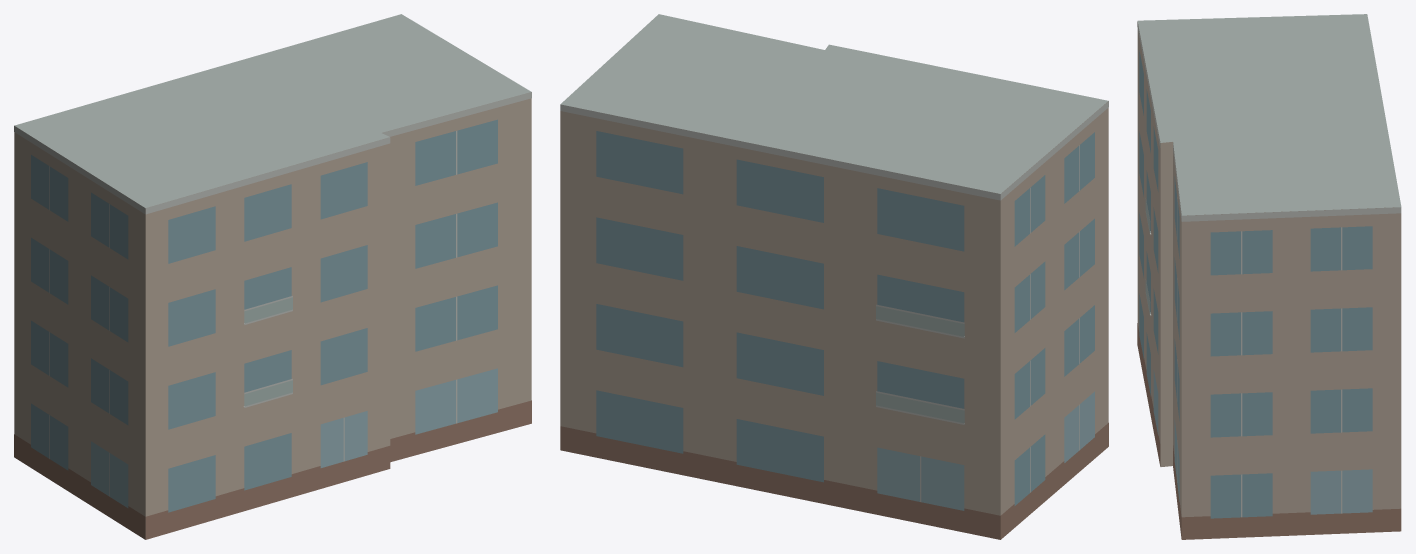
The model's file is survey-upis-32759013.glb.
The picture shows the model from 3 angles, left to right: view 1: azimuth 30°, elevation 25°; view 2: azimuth 150°, elevation 25°; view 3: azimuth 270°, elevation 25°; orthographic projection. The views are drawn at different scales.
Parts seen in each view (by area): view 1: survey-upis-32759013.tmp; view 2: survey-upis-32759013.tmp; view 3: survey-upis-32759013.tmp.
Part boxes in pixels (x1,y1,x2,y2): survey-upis-32759013.tmp: [14, 14, 531, 539]; survey-upis-32759013.tmp: [560, 14, 1108, 539]; survey-upis-32759013.tmp: [1137, 14, 1401, 539].
Bounding box in the file's own units: 17.08 × 12.8 × 9.45.
